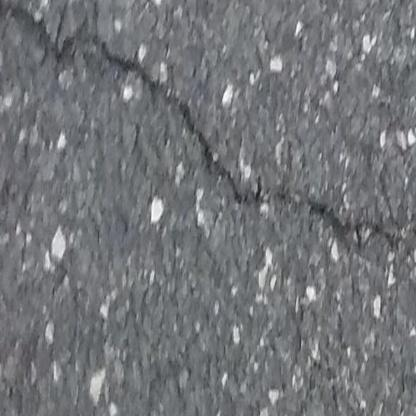Cracks: (0, 0, 416, 241)
